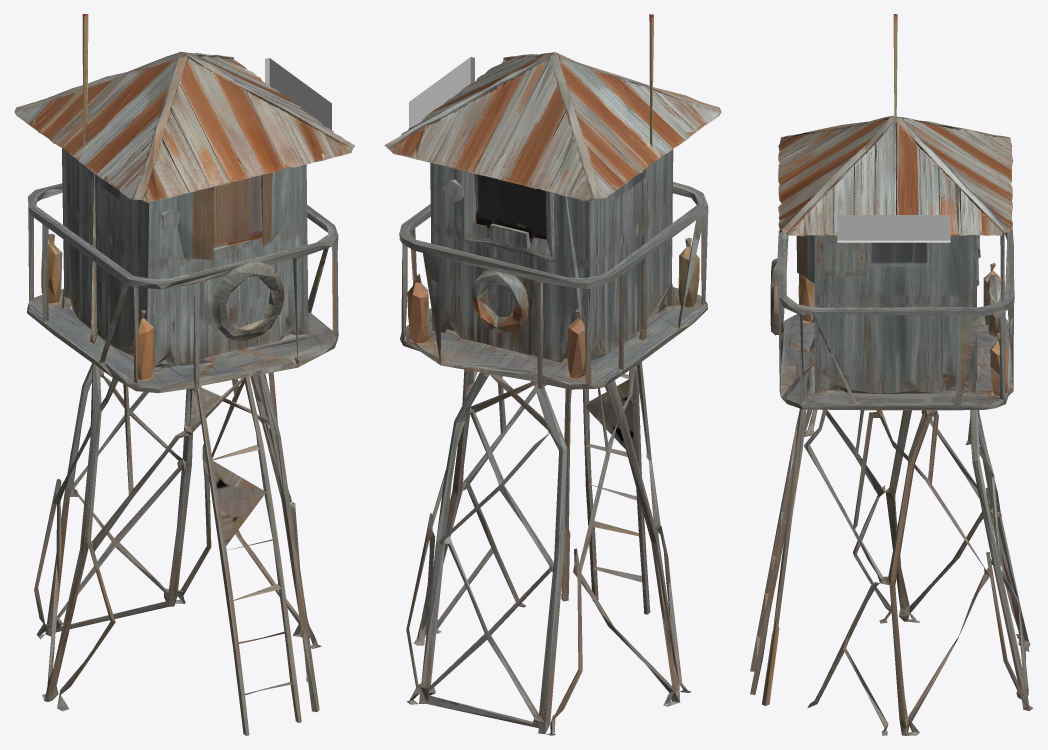
Rendered from militia_observation_post.glb.
3 views of the same model, side by side, from view 1: azimuth 30°, elevation 25°; view 2: azimuth 150°, elevation 25°; view 3: azimuth 270°, elevation 25° (orthographic). The views are drawn at different scales.
Parts seen in each view (by area): view 1: metal, wall, glass; view 2: metal, wall, glass; view 3: metal, wall, glass.
Part boxes in pixels (<box>): metal: <box>27,148,338,735</box>; wall: <box>14,14,355,340</box>; glass: <box>265,58,331,129</box>; metal: <box>399,158,708,735</box>; wall: <box>384,14,721,338</box>; glass: <box>409,57,474,127</box>; metal: <box>750,230,1033,735</box>; wall: <box>773,14,1014,393</box>; glass: <box>837,215,950,242</box>.
Size of the model in its own units: 2.95 by 7.24 by 3.
Materials: 1 (1 with a texture image).
